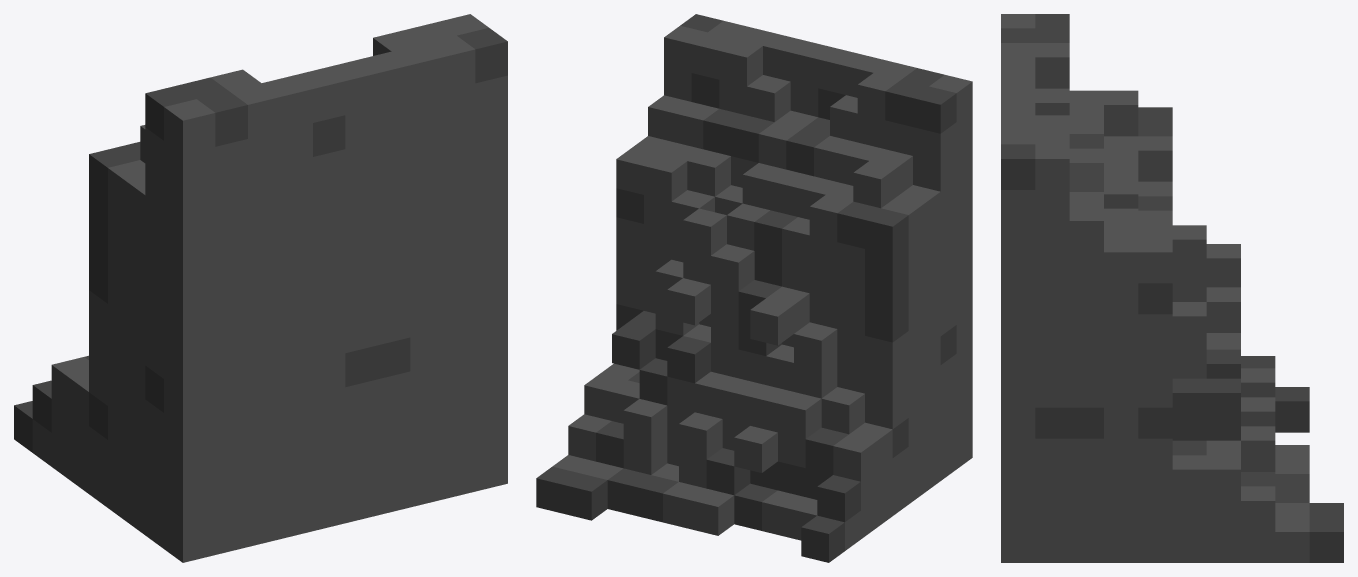
The model's file is Stein_Rand-0.2.obj.
The picture shows the model from 3 angles, left to right: view 1: azimuth 30°, elevation 25°; view 2: azimuth 150°, elevation 25°; view 3: azimuth 270°, elevation 25°; orthographic projection. The views are drawn at different scales.
Bounding box in the file's own units: 1 × 1.3 × 1.
1 material, 1 textured.
